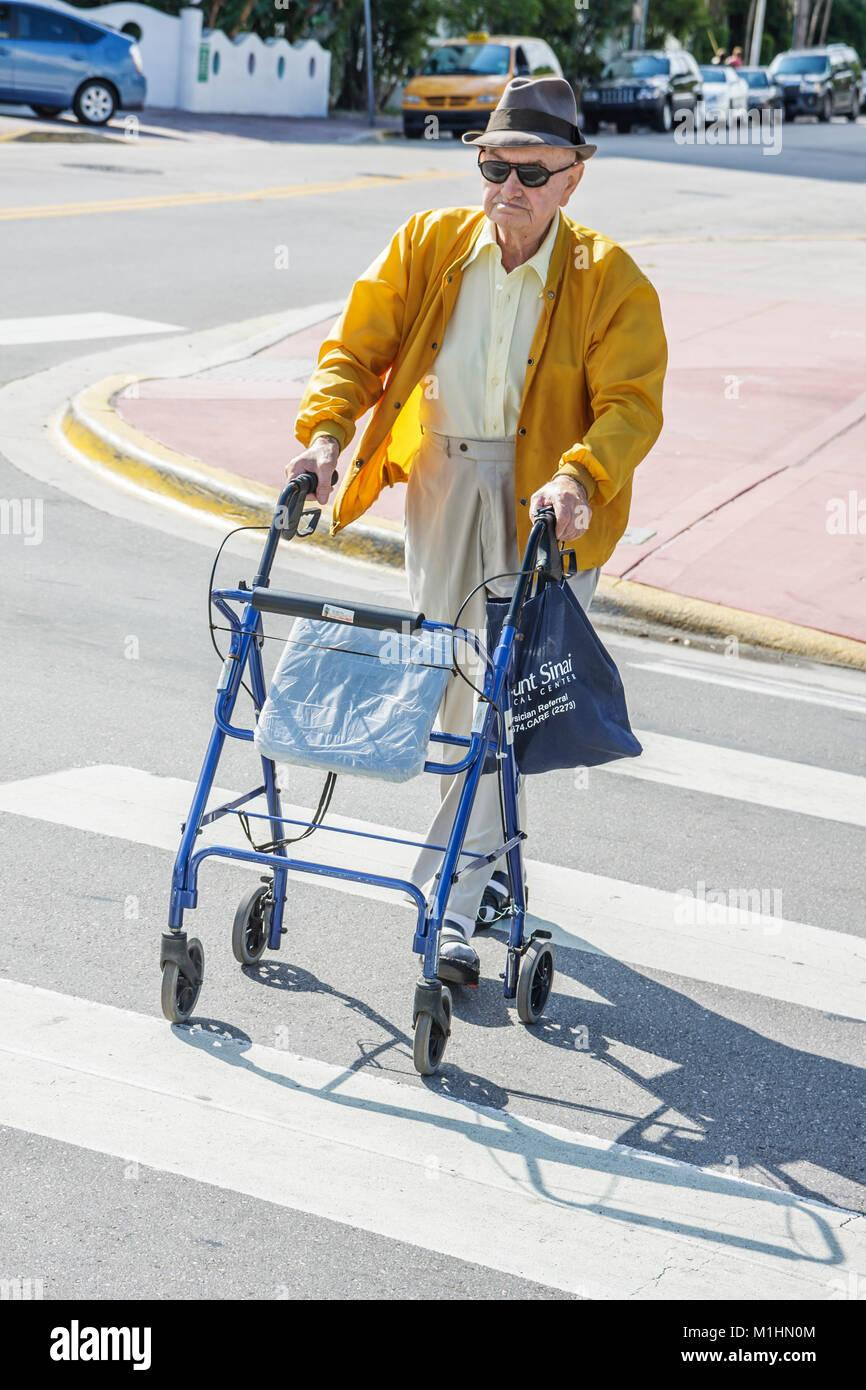walking_frame: (160, 77, 669, 1075)
